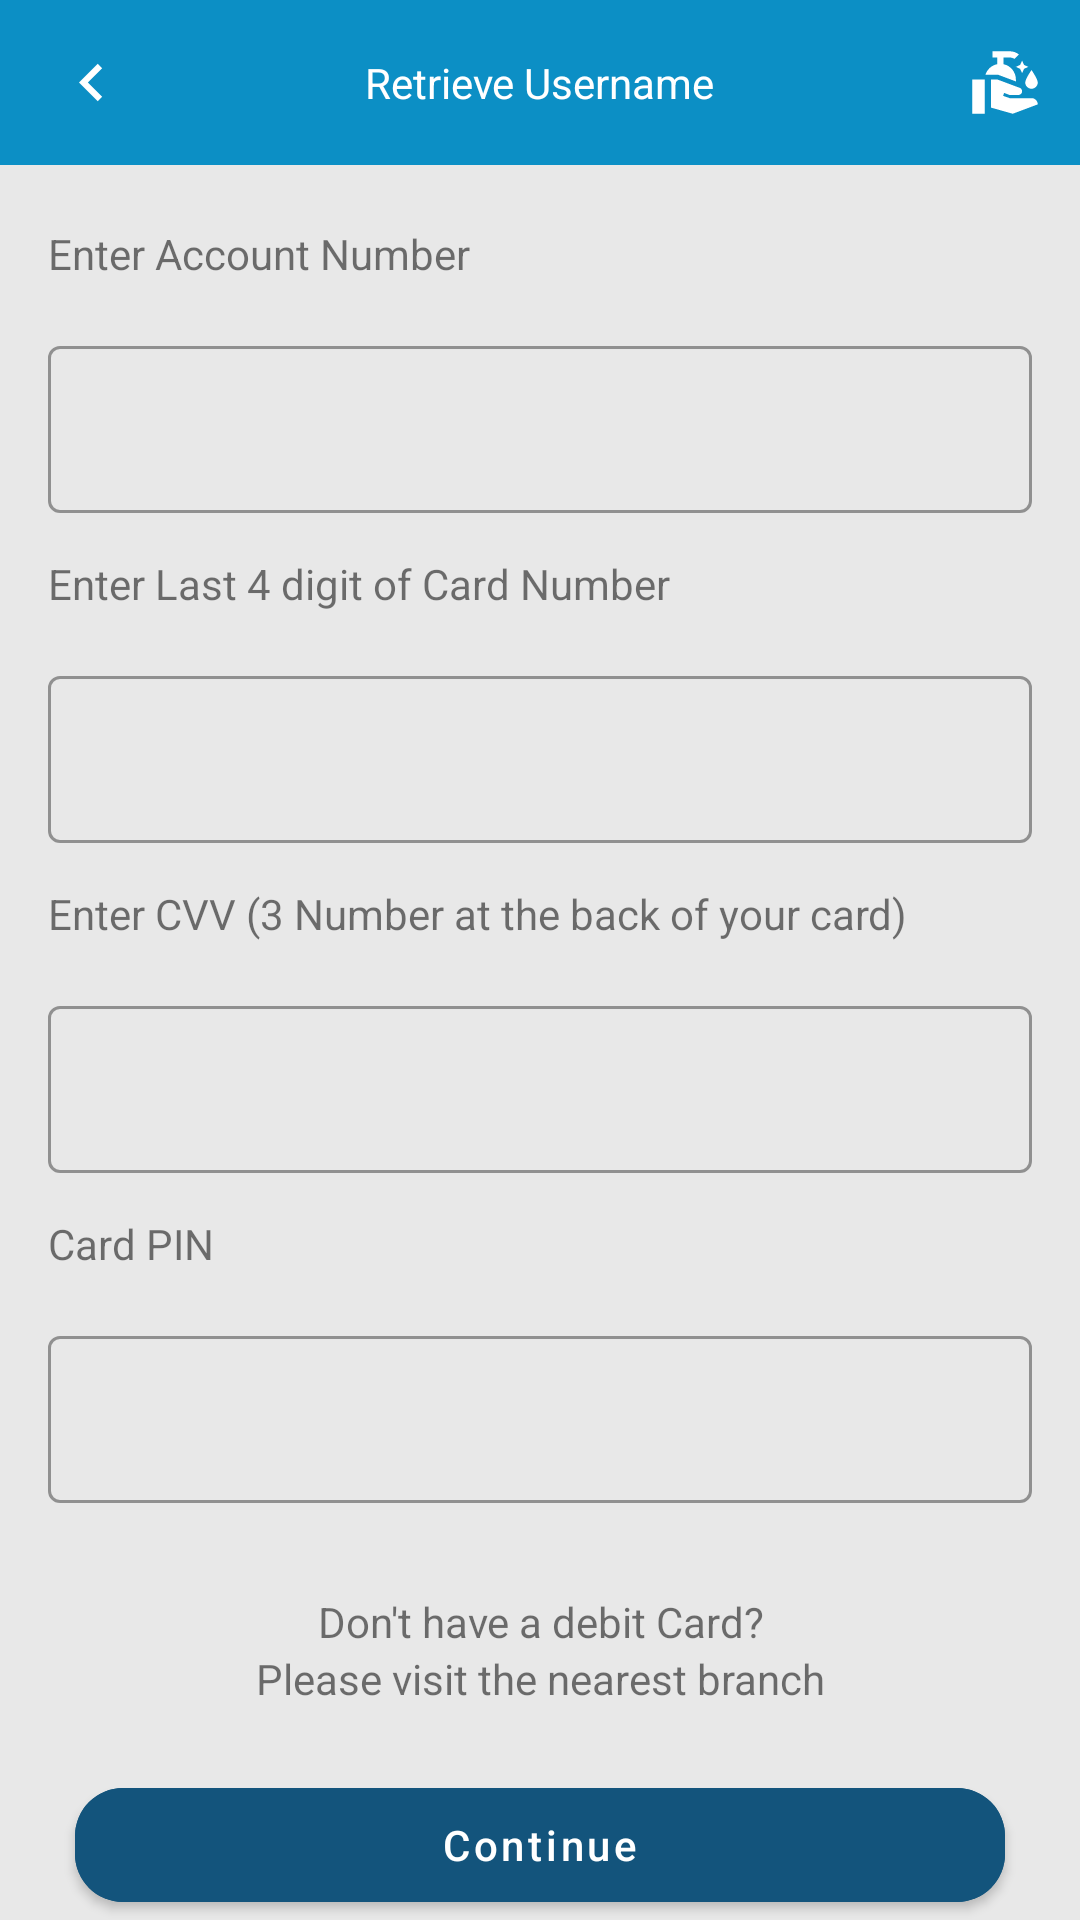

Icons on this 1080x1920 Android screen, each with the point to tap as (x,y):
previcon: (90,82)
